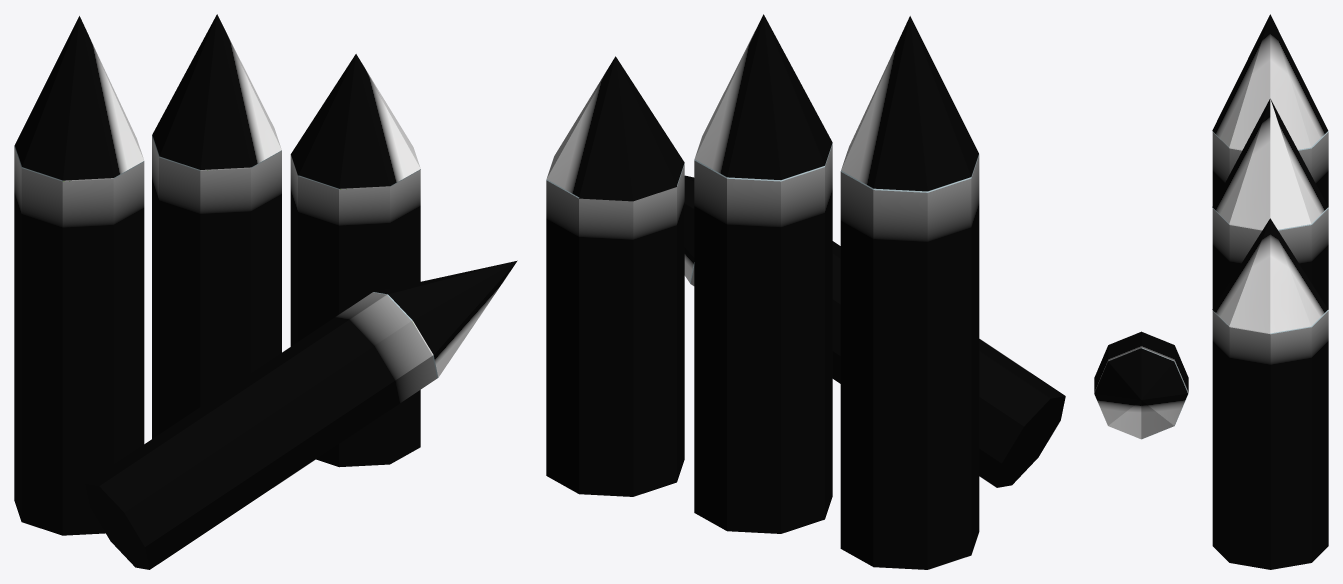
The model's file is Balas.fbx.
The picture shows the model from 3 angles, left to right: view 1: azimuth 30°, elevation 25°; view 2: azimuth 150°, elevation 25°; view 3: azimuth 270°, elevation 25°; orthographic projection. The views are drawn at different scales.
Parts seen in each view (by area): view 1: balas; view 2: balas; view 3: balas.
Part boxes in pixels (<box>): balas: <box>14,14,517,569</box>; balas: <box>546,14,1065,569</box>; balas: <box>1094,14,1328,569</box>.
Size of the model in its own units: 79.47 by 89.08 by 45.26.
